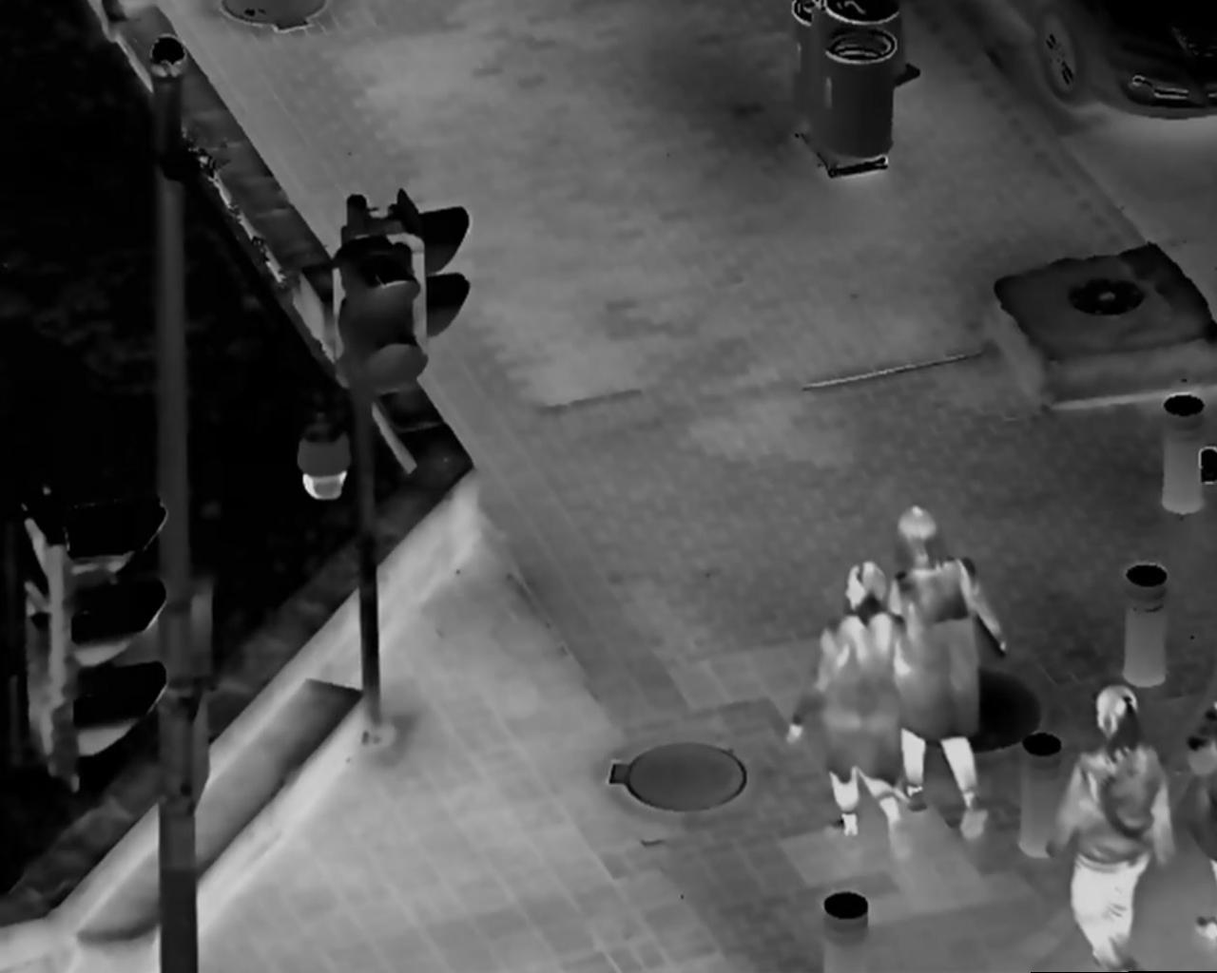person: (878, 503, 1006, 836), (791, 554, 912, 858), (1050, 675, 1170, 973), (1177, 682, 1217, 952)
